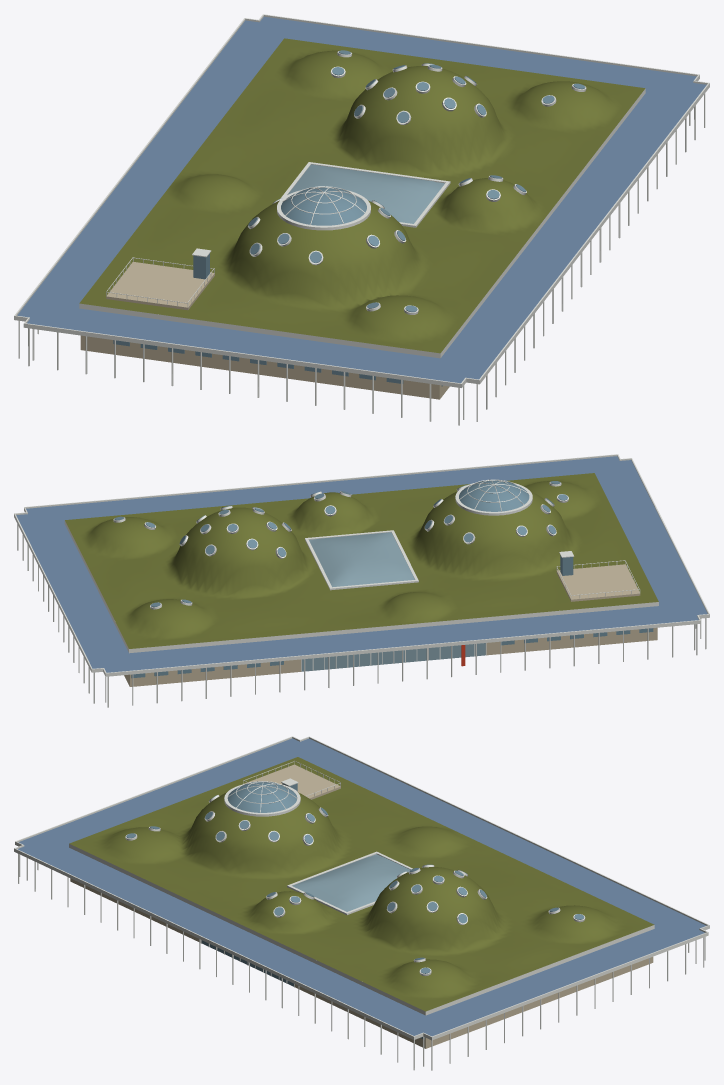
File: california-academy-of-sciences-near.glb
3 renders of one model, top to bottom at view 1: azimuth 30°, elevation 25°; view 2: azimuth 150°, elevation 25°; view 3: azimuth 270°, elevation 25°, orthographic. The views are drawn at different scales.
Parts seen in each view (by area): view 1: california-academy-of-sciences-0-green, california-academy-of-sciences-0-pv, california-academy-of-sciences-0-white, california-academy-of-sciences-0-stone, california-academy-of-sciences-0-glass, california-academy-of-sciences-0-glow; view 2: california-academy-of-sciences-0-green, california-academy-of-sciences-0-pv, california-academy-of-sciences-0-white, california-academy-of-sciences-0-glow, california-academy-of-sciences-0-stone, california-academy-of-sciences-0-glass; view 3: california-academy-of-sciences-0-green, california-academy-of-sciences-0-pv, california-academy-of-sciences-0-white, california-academy-of-sciences-0-stone, california-academy-of-sciences-0-glass, california-academy-of-sciences-0-glow.
Part boxes in pixels (x1,y1,x2,y2): california-academy-of-sciences-0-green: [79, 38, 645, 353]; california-academy-of-sciences-0-pv: [17, 16, 706, 383]; california-academy-of-sciences-0-white: [14, 14, 709, 425]; california-academy-of-sciences-0-stone: [80, 262, 449, 399]; california-academy-of-sciences-0-glass: [113, 50, 585, 386]; california-academy-of-sciences-0-glow: [288, 164, 444, 223]; california-academy-of-sciences-0-green: [65, 473, 658, 648]; california-academy-of-sciences-0-pv: [16, 456, 707, 672]; california-academy-of-sciences-0-white: [14, 454, 709, 707]; california-academy-of-sciences-0-glow: [302, 532, 485, 671]; california-academy-of-sciences-0-stone: [115, 564, 657, 686]; california-academy-of-sciences-0-glass: [114, 480, 653, 678]; california-academy-of-sciences-0-green: [69, 757, 654, 1011]; california-academy-of-sciences-0-pv: [17, 738, 706, 1036]; california-academy-of-sciences-0-white: [14, 736, 709, 1070]; california-academy-of-sciences-0-stone: [70, 764, 653, 1048]; california-academy-of-sciences-0-glass: [126, 781, 584, 1039]; california-academy-of-sciences-0-glow: [292, 854, 410, 911].
Size of the model in its own units: 184 by 27.58 by 179.
